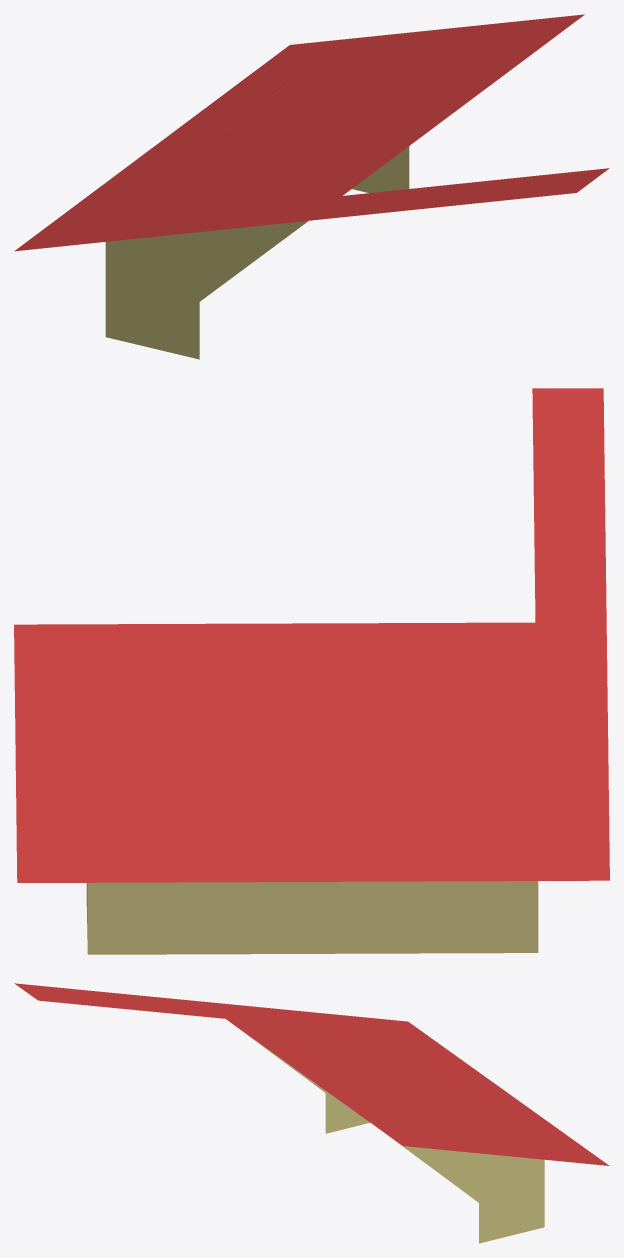
3 views of the same model, one above another, from view 1: azimuth 30°, elevation 25°; view 2: azimuth 150°, elevation 25°; view 3: azimuth 270°, elevation 25° (orthographic). The views are drawn at different scales.
Size of the model in its own units: 4.87 by 6.25 by 2.37.
